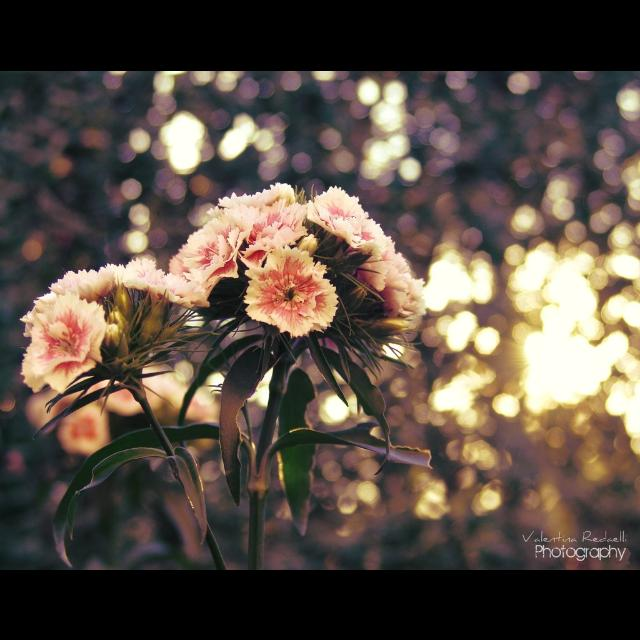Flower: (228, 242, 349, 346), (33, 292, 106, 394), (166, 212, 240, 292), (115, 254, 212, 314), (224, 201, 310, 243), (304, 182, 362, 244), (212, 176, 296, 212), (47, 261, 123, 299), (358, 249, 406, 291), (19, 284, 53, 340), (390, 272, 430, 314), (20, 338, 44, 392), (361, 215, 385, 259)
